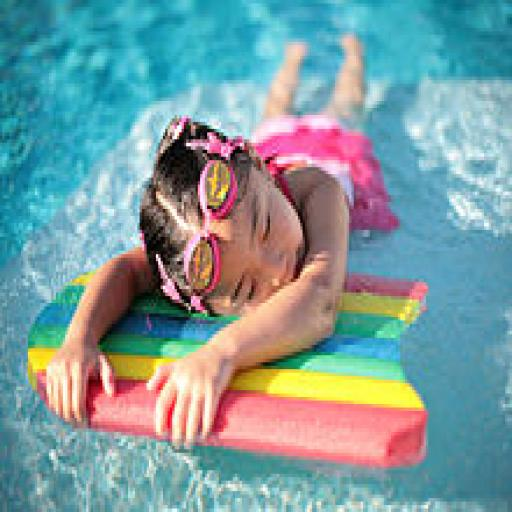swimming: (42, 28, 393, 449)
